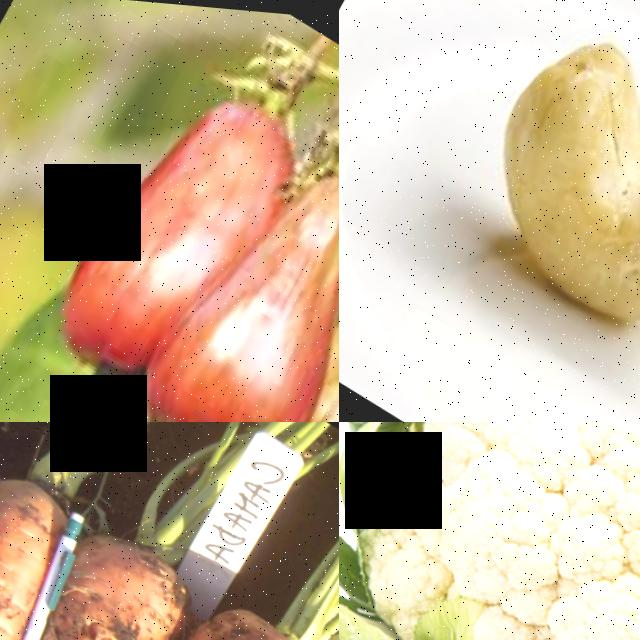carrot: (0, 535, 191, 640), (42, 568, 312, 640)
cashew: (396, 0, 640, 395), (40, 351, 161, 422)
cauliflower: (339, 422, 640, 640)
